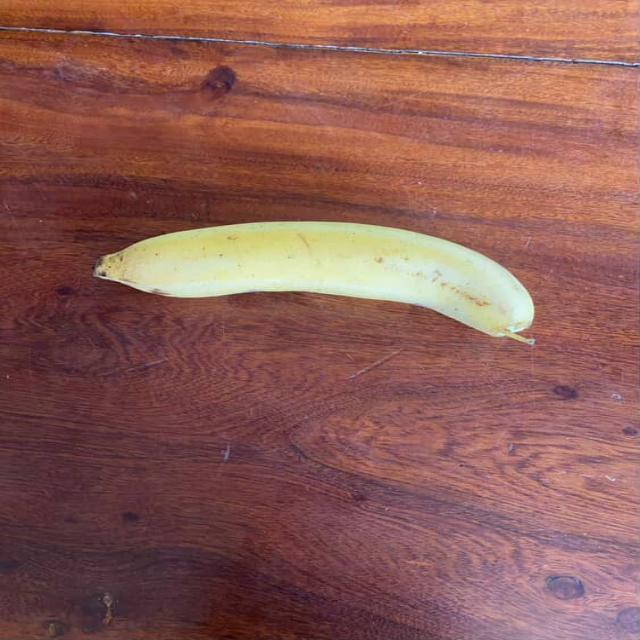Ripe: (80, 194, 552, 362)
